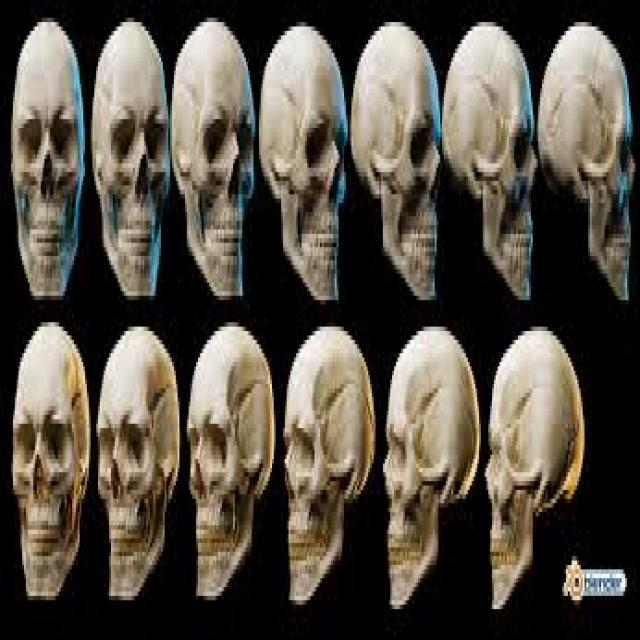skull: (350, 16, 446, 316), (96, 320, 183, 609)
